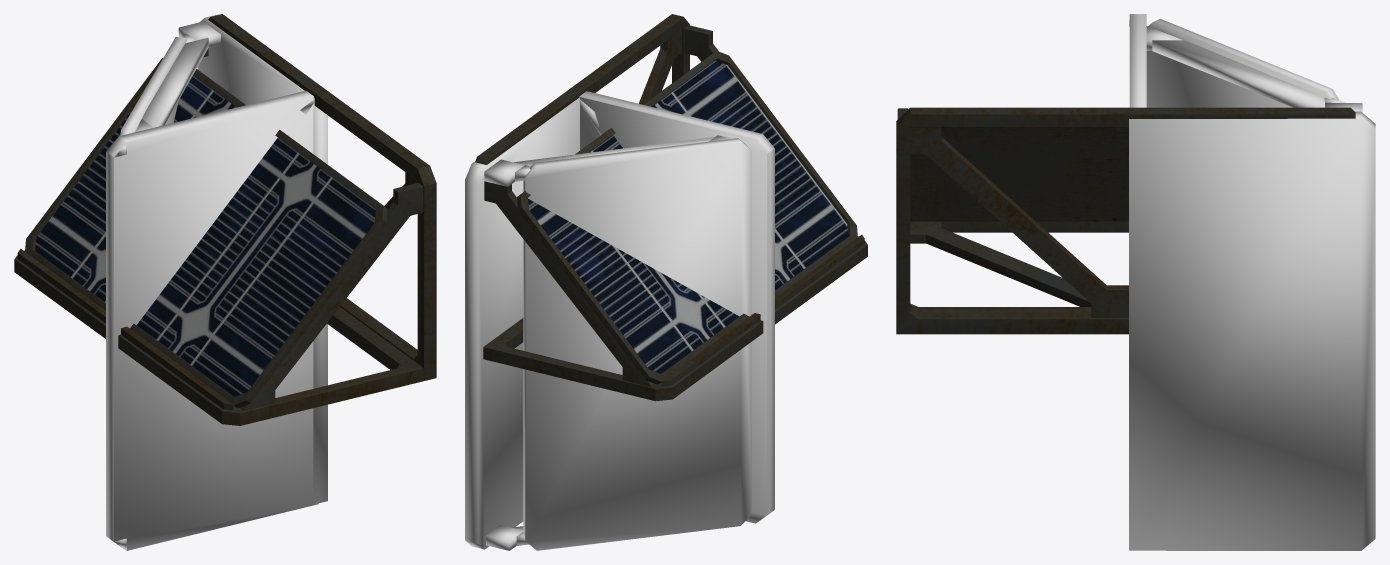
File: SM_Solar_Panel.fbx
3 renders of one model, left to right at view 1: azimuth 30°, elevation 25°; view 2: azimuth 150°, elevation 25°; view 3: azimuth 270°, elevation 25°, orthographic. The views are drawn at different scales.
Visible parts, largest first — view 1: SM_Solar_Panel, SM_Solar_Panel_ConvexHulls; view 2: SM_Solar_Panel_ConvexHulls, SM_Solar_Panel; view 3: SM_Solar_Panel_ConvexHulls, SM_Solar_Panel.
Boxes of the visible parts, x1,y1,x2,y2 form: SM_Solar_Panel: (14, 14, 436, 425); SM_Solar_Panel_ConvexHulls: (106, 14, 327, 550); SM_Solar_Panel_ConvexHulls: (465, 91, 774, 550); SM_Solar_Panel: (475, 14, 867, 401); SM_Solar_Panel_ConvexHulls: (1129, 14, 1375, 550); SM_Solar_Panel: (896, 107, 1355, 334).
Size of the model in its own units: 1.85 by 3.4 by 3.38.
